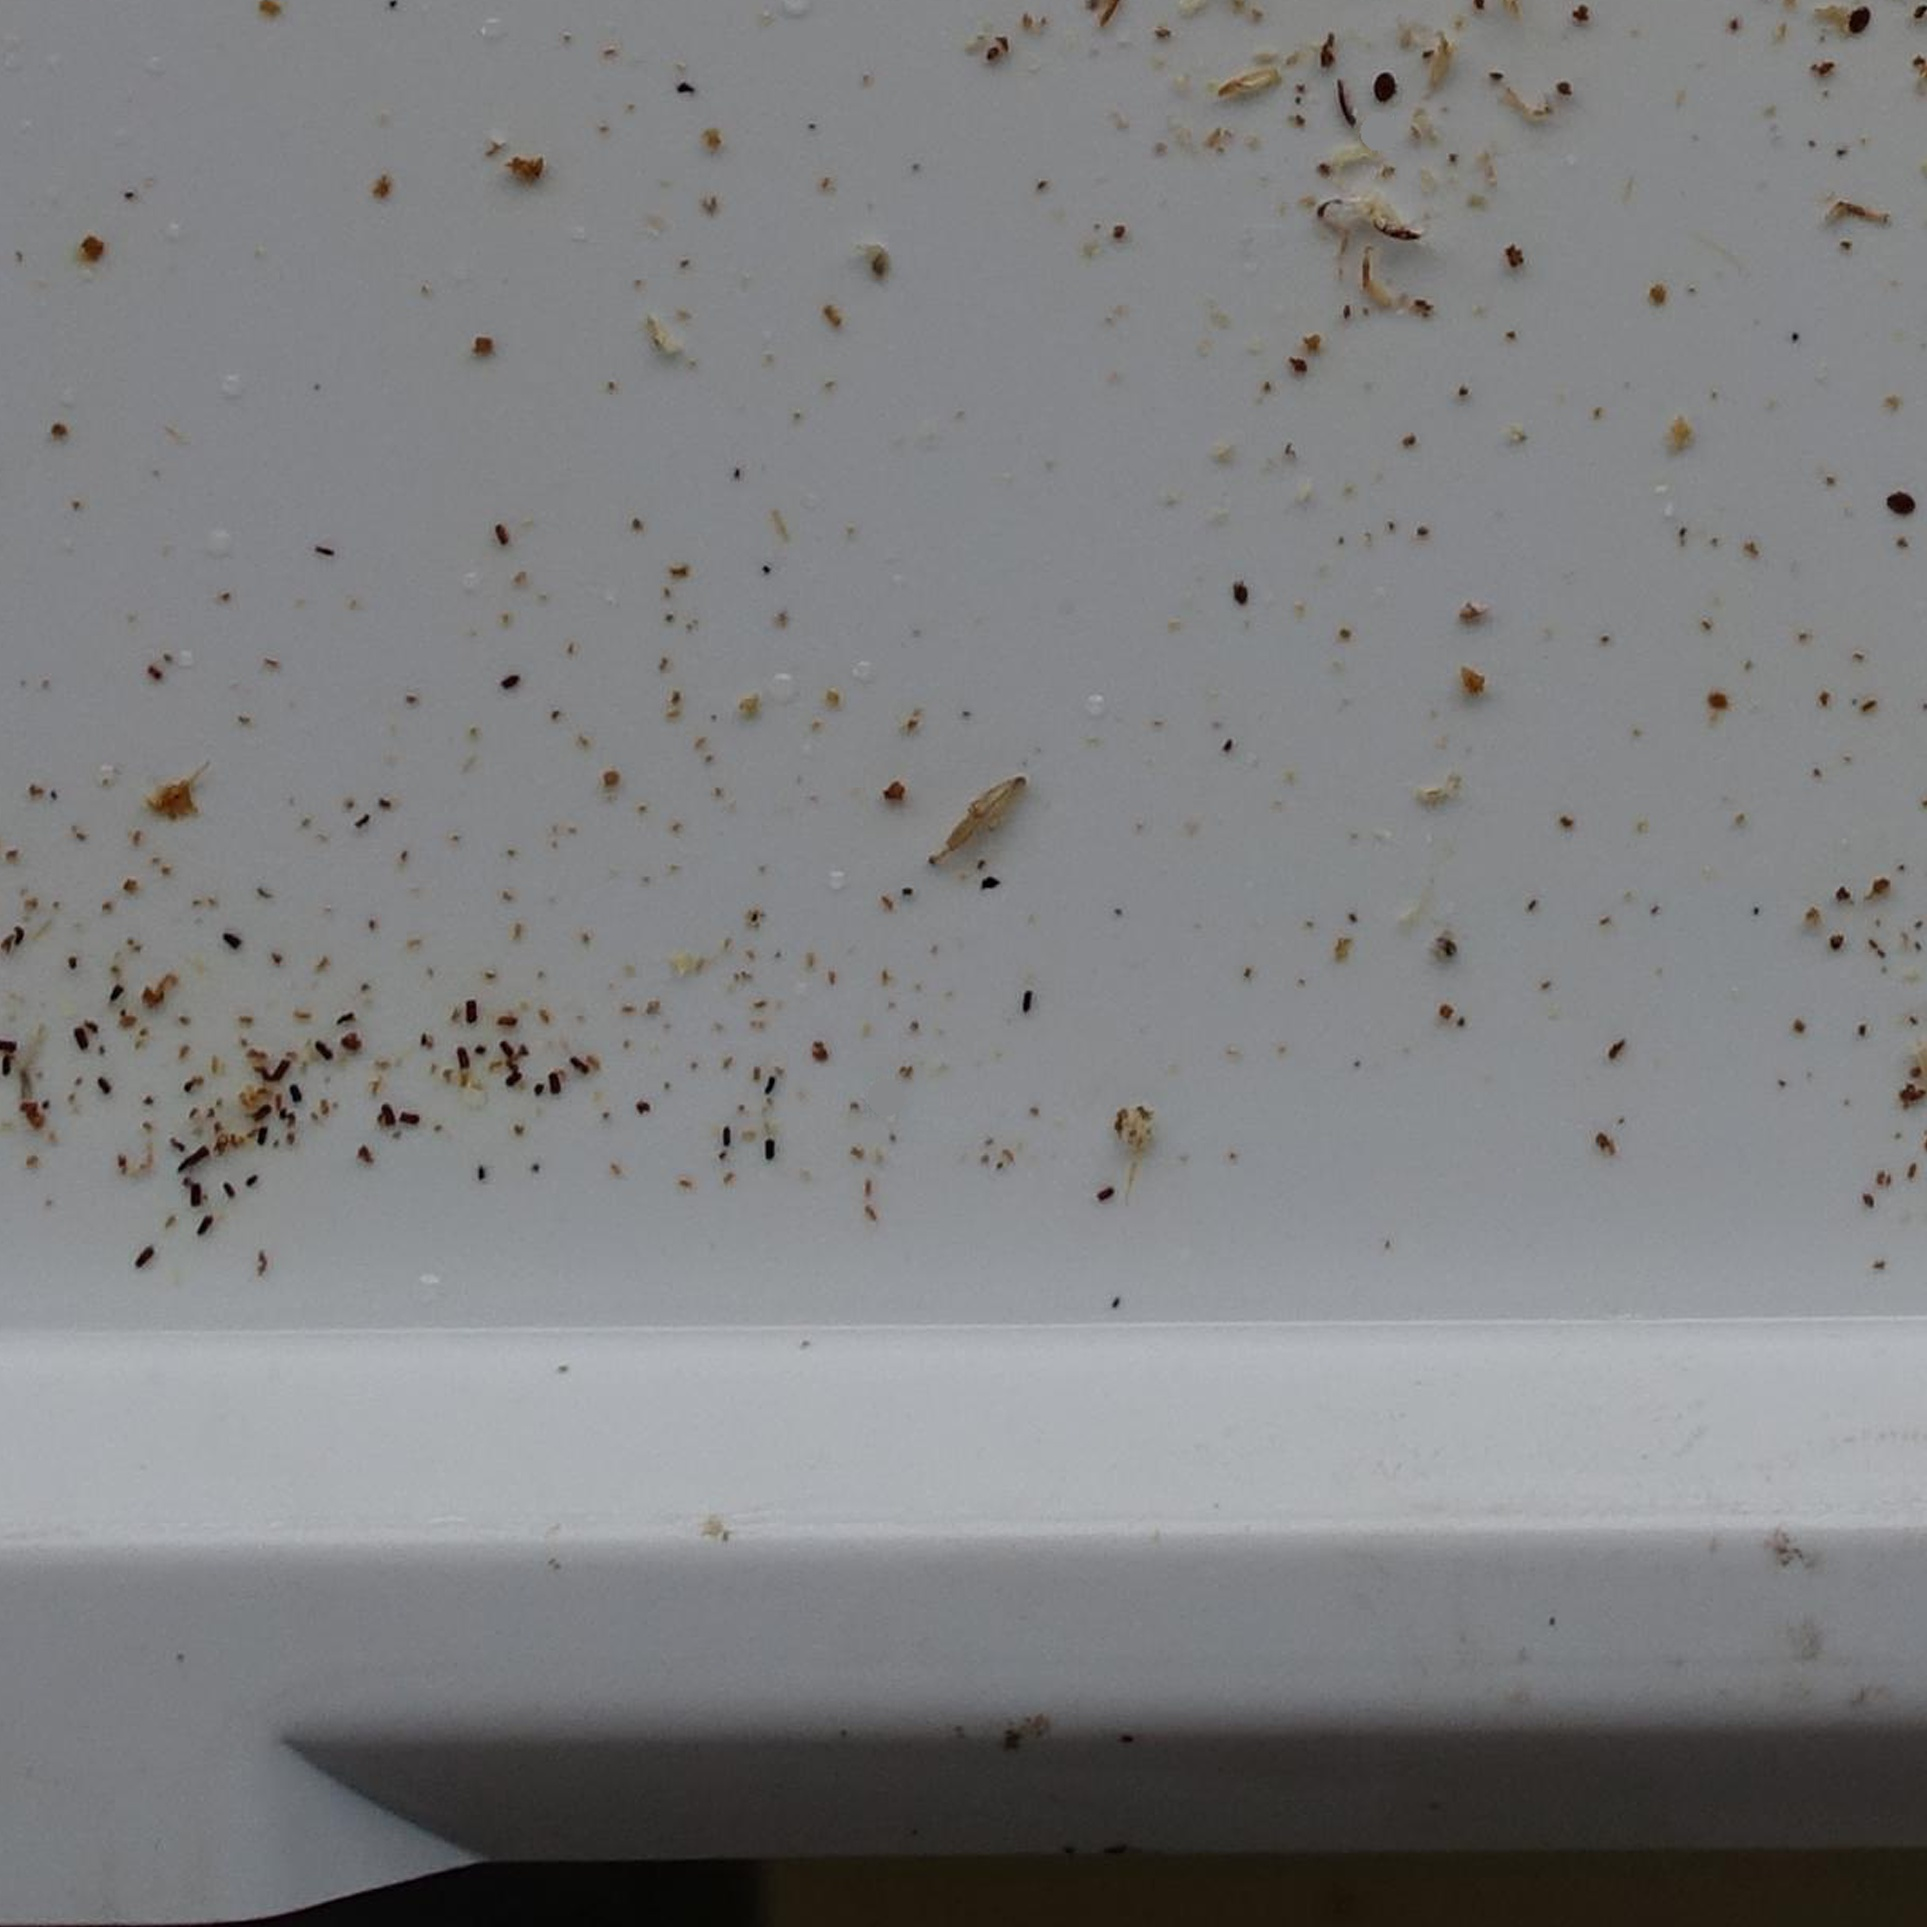Varroa: (1848, 7, 1871, 34), (1892, 489, 1915, 514), (1373, 72, 1394, 97)
